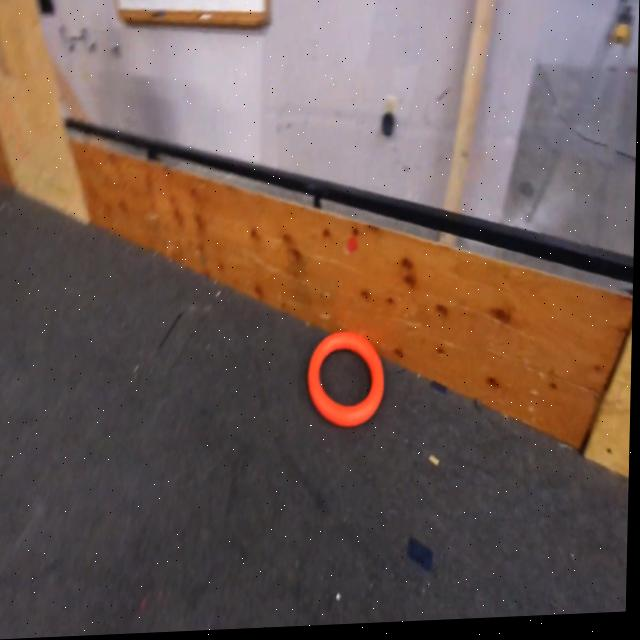note: (307, 337, 387, 431)
